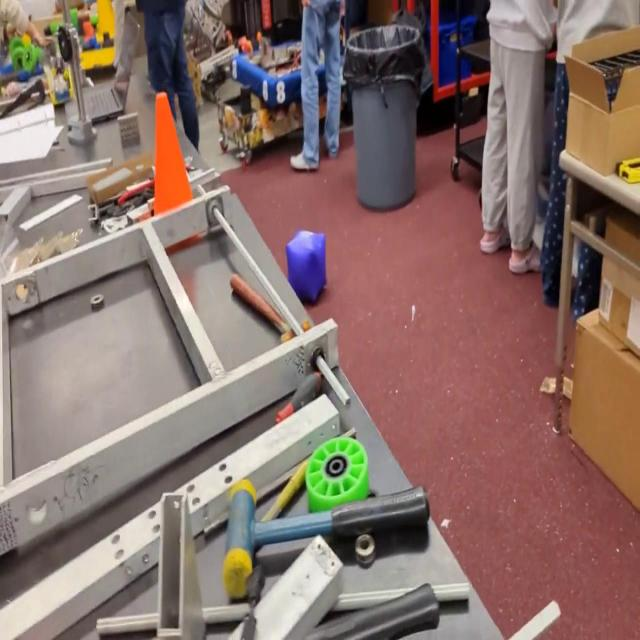frc_cone: (92, 0, 118, 42)
frc_cube: (285, 227, 329, 303)
